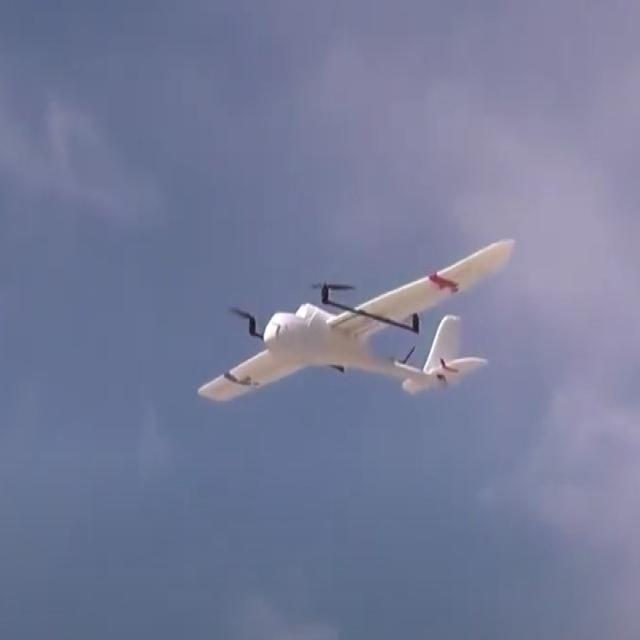iha: (196, 232, 517, 406)
